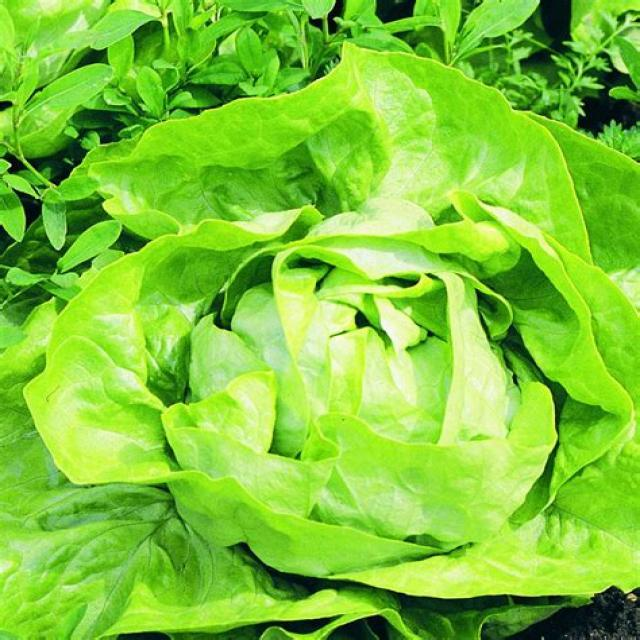Lettuce: (32, 44, 639, 640)
